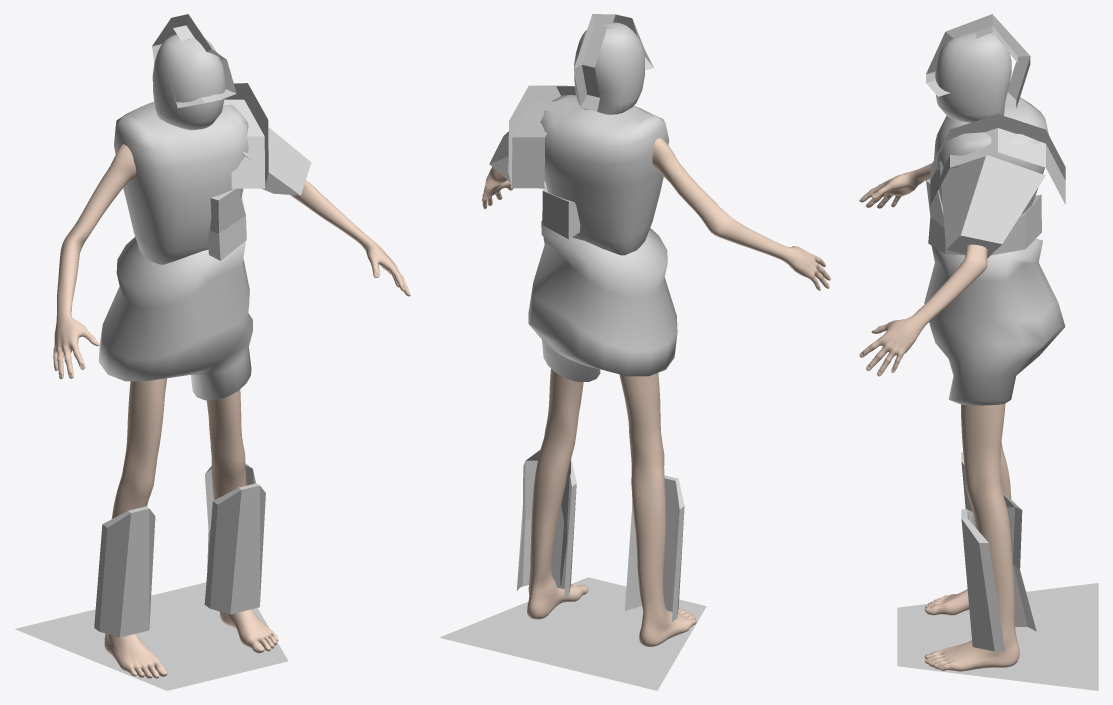
Rendered from enemy.glb.
The picture shows the model from 3 angles, left to right: view 1: azimuth 30°, elevation 25°; view 2: azimuth 150°, elevation 25°; view 3: azimuth 270°, elevation 25°; orthographic projection. The views are drawn at different scales.
Parts seen in each view (by area): view 1: Circle, demon-base, Cube.001, Cube.002, hand_shape, Circle.001, Cube, Circle.002; view 2: demon-base, Circle, Cube.001, hand_shape, Cube, Circle.001, Cube.002, Circle.002; view 3: demon-base, Circle, Circle.001, hand_shape, Cube, Cube.002, Cube.001, Circle.002.
Part boxes in pixels (x1,y1,x2,y2): Circle: (98, 237, 252, 400); demon-base: (53, 143, 410, 678); Cube.001: (114, 102, 248, 264); Cube.002: (94, 483, 265, 637); hand_shape: (15, 582, 288, 690); Circle.001: (208, 83, 311, 260); Cube: (152, 14, 236, 130); Circle.002: (205, 463, 255, 568); demon-base: (482, 60, 830, 646); Circle: (528, 220, 677, 381); Cube.001: (540, 95, 668, 255); hand_shape: (439, 577, 706, 690); Cube: (573, 14, 653, 114); Circle.001: (489, 85, 580, 239); Cube.002: (517, 458, 684, 621); Circle.002: (516, 450, 570, 590); demon-base: (859, 163, 1019, 671); Circle: (924, 239, 1065, 405); Circle.001: (926, 114, 1065, 258); hand_shape: (897, 583, 1098, 690); Cube: (926, 14, 1030, 122); Cube.002: (961, 452, 1004, 651); Cube.001: (934, 97, 1048, 213); Circle.002: (971, 492, 1036, 631).
Size of the model in its own units: 1.45 by 2.49 by 0.8707.
